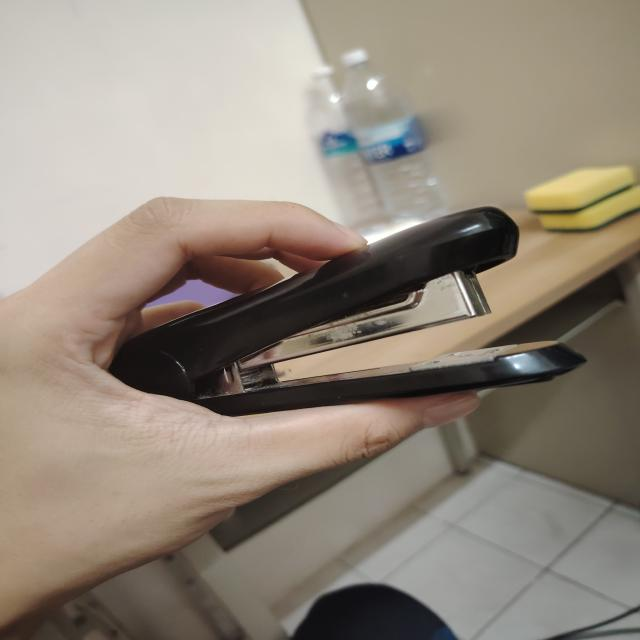stapler: (109, 207, 586, 416)
